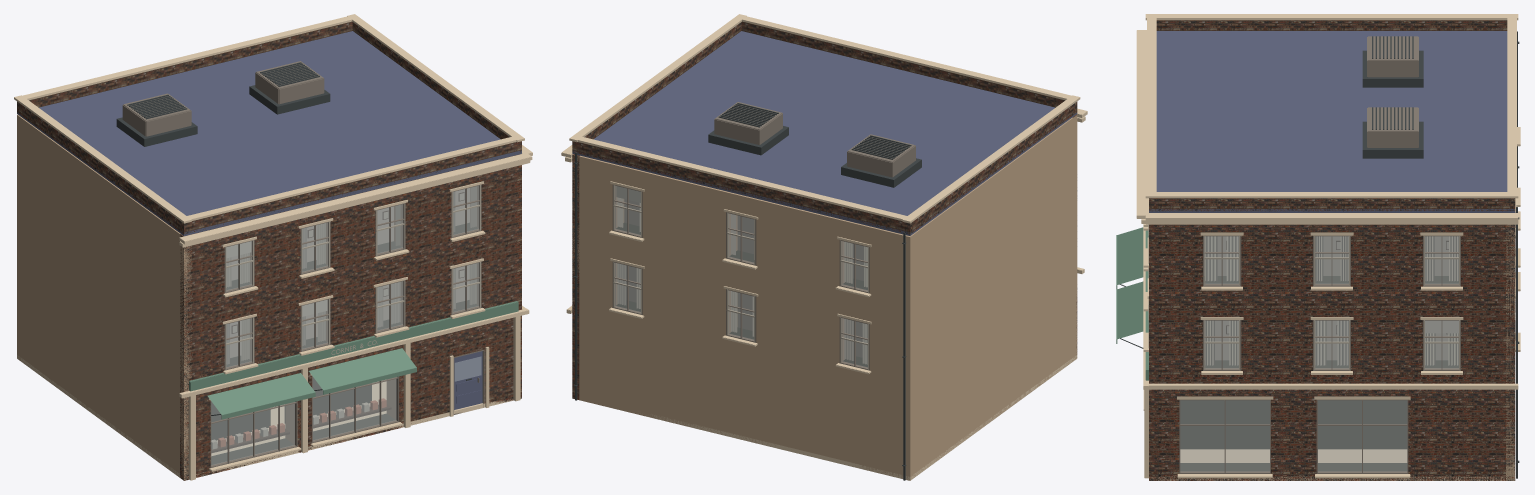
Rendered from corner-shop.glb.
The picture shows the model from 3 angles, left to right: view 1: azimuth 30°, elevation 25°; view 2: azimuth 150°, elevation 25°; view 3: azimuth 270°, elevation 25°; orthographic projection. The views are drawn at different scales.
Parts seen in each view (by area): view 1: corner-shop; view 2: corner-shop; view 3: corner-shop.
Part boxes in pixels (x1,y1,x2,y2): corner-shop: [14, 14, 532, 480]; corner-shop: [561, 14, 1087, 480]; corner-shop: [1116, 14, 1520, 480].
Size of the model in its own units: 14.6 by 10.78 by 13.24.
Materials: 14 (1 with a texture image).
